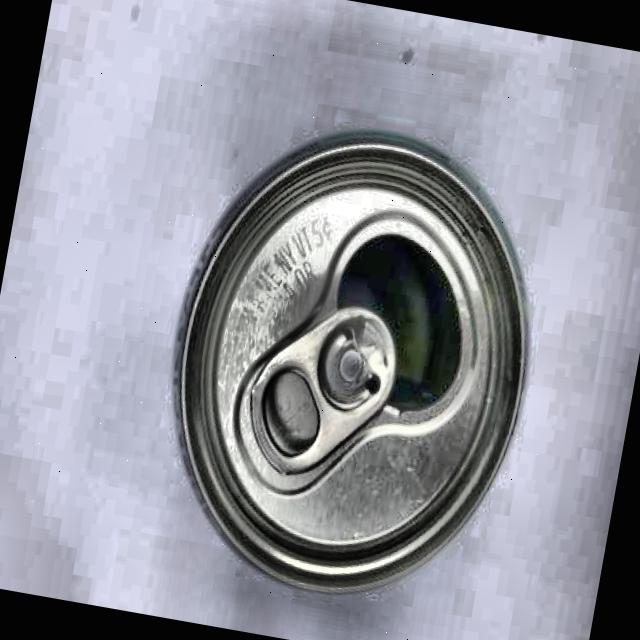metal: (136, 100, 568, 624)
